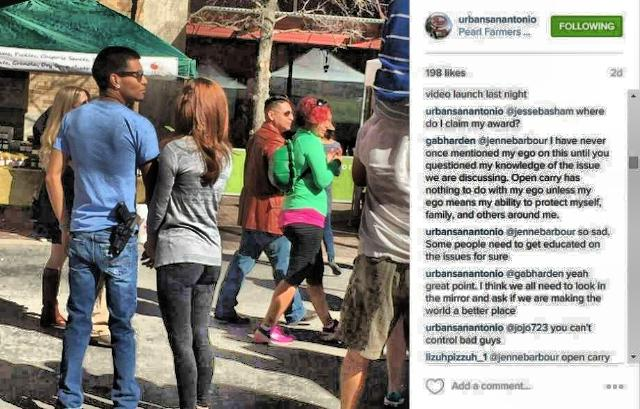pistol: (100, 198, 140, 272)
